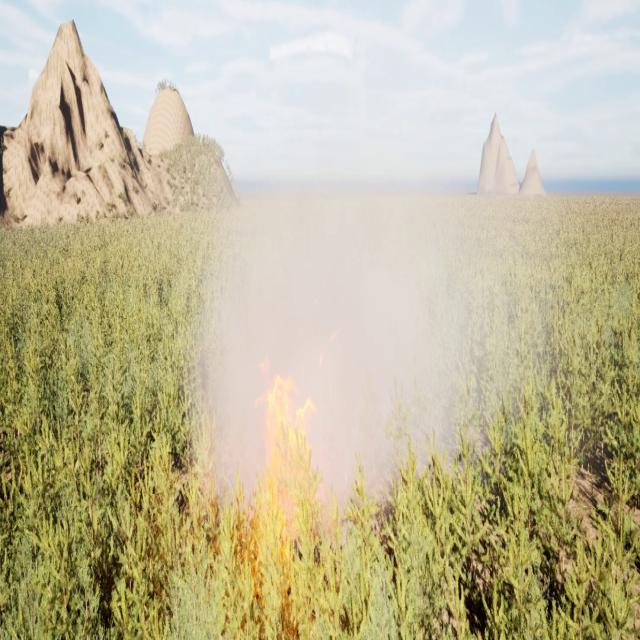fire: (247, 349, 327, 505)
smoke: (187, 126, 550, 520)
